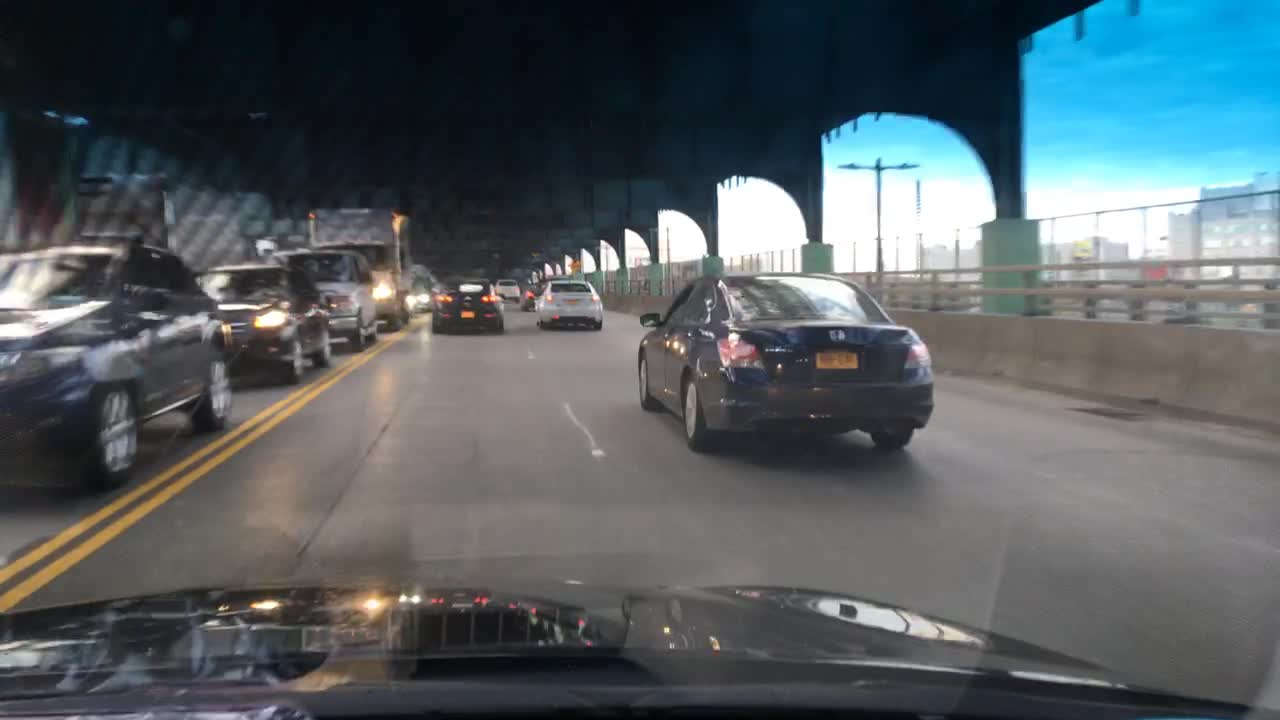car: (0, 239, 235, 501), (635, 271, 933, 454), (195, 262, 332, 384), (268, 247, 376, 353), (429, 276, 504, 334), (533, 277, 604, 331), (494, 278, 520, 303), (521, 282, 543, 310)
traffic sign: (568, 260, 579, 271)
truck: (305, 206, 412, 331), (410, 262, 436, 312)
